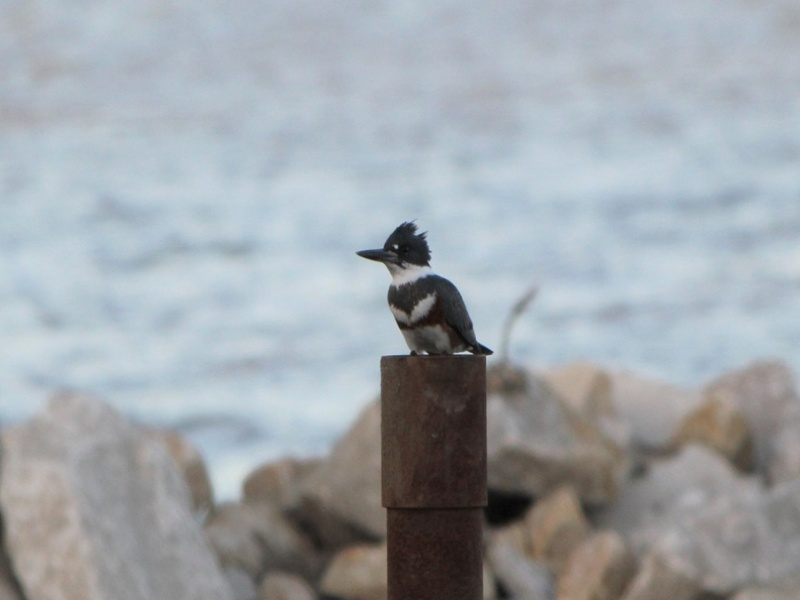kingfisher: (354, 217, 495, 360)
